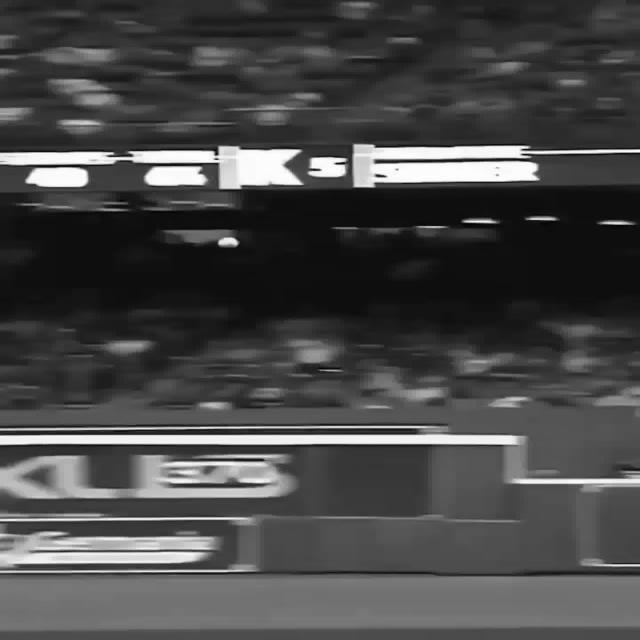baseball: (217, 236, 239, 248)
